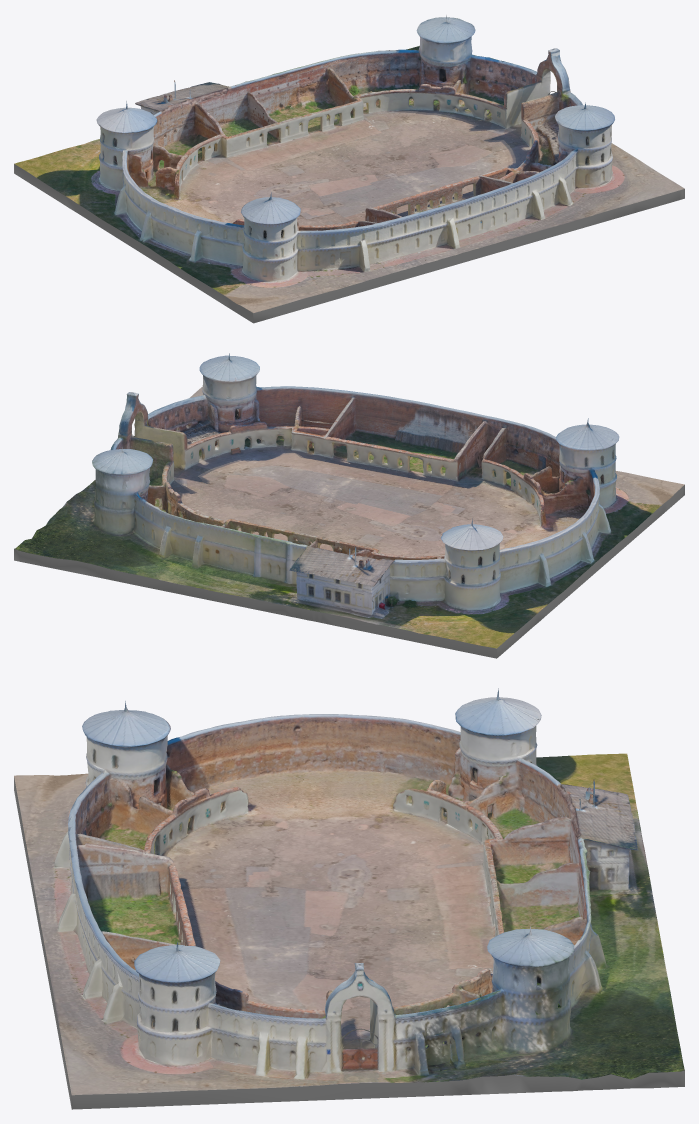
File: Manor Round Yard.glb
3 renders of one model, top to bottom at view 1: azimuth 30°, elevation 25°; view 2: azimuth 150°, elevation 25°; view 3: azimuth 270°, elevation 25°, orthographic. The views are drawn at different scales.
Visible parts, largest first — view 1: default_18_Circle_Yard_Material_u1_v1_2D_View_0, mmGroup2; view 2: default_18_Circle_Yard_Material_u1_v1_2D_View_0, mmGroup2; view 3: default_18_Circle_Yard_Material_u1_v1_2D_View_0, mmGroup2.
Boxes of the visible parts, x1=… form: default_18_Circle_Yard_Material_u1_v1_2D_View_0: x1=14, y1=15, x2=684, y2=312; mmGroup2: x1=14, y1=164, x2=684, y2=323; default_18_Circle_Yard_Material_u1_v1_2D_View_0: x1=14, y1=353, x2=684, y2=648; mmGroup2: x1=14, y1=485, x2=684, y2=658; default_18_Circle_Yard_Material_u1_v1_2D_View_0: x1=14, y1=688, x2=684, y2=1095; mmGroup2: x1=14, y1=777, x2=684, y2=1109.
Bounding box in the file's own units: 4415109 × 799761 × 3691950.
Materials: 2 (1 with a texture image).
